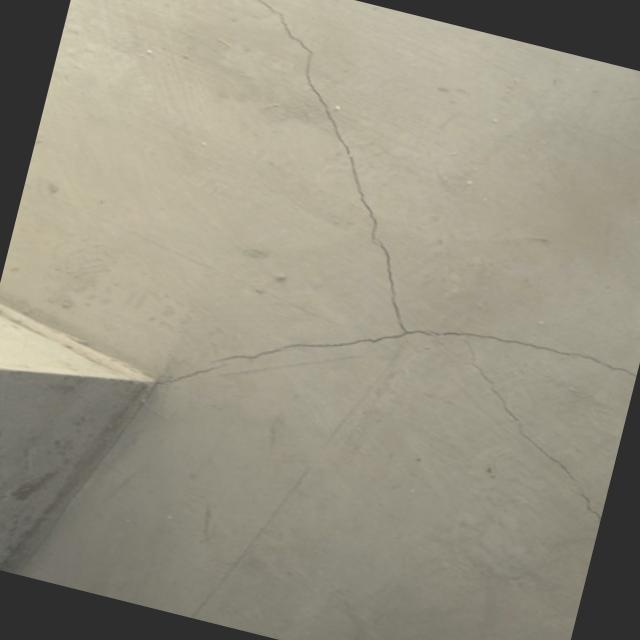crack: (149, 231, 640, 520), (171, 0, 467, 282)
